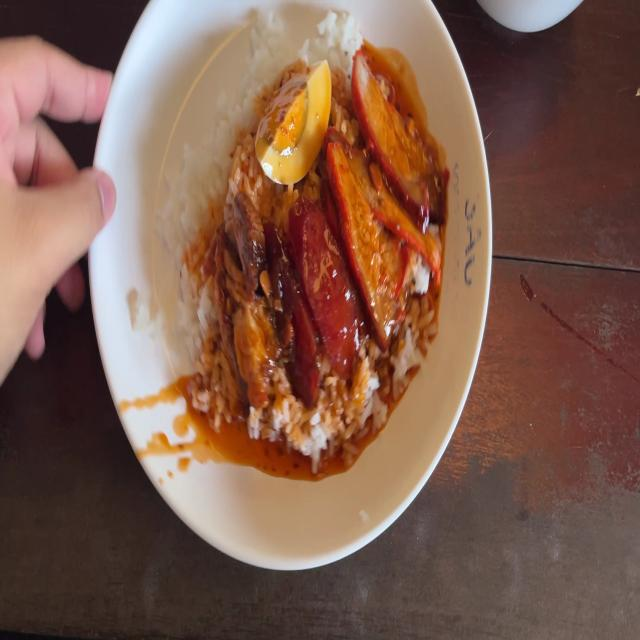01boiled_egg: (270, 64, 318, 184)
01chainese_sausage: (276, 227, 338, 358)
01crispy_pork: (230, 304, 283, 404), (224, 225, 263, 321)
01red_pork: (336, 100, 441, 279)
01red_pork_and_crispy_pork: (193, 29, 430, 443)
01rice: (176, 197, 228, 410), (177, 109, 219, 219), (237, 33, 281, 101)
